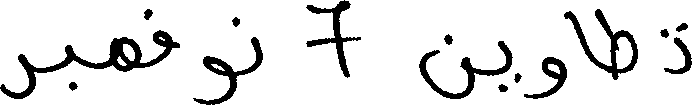7: (304, 0, 359, 79)
ا: (571, 9, 594, 65)
ب: (64, 42, 76, 91)
ت: (672, 21, 690, 75)
ر: (0, 52, 36, 100)
ط: (594, 7, 637, 81)
ف: (150, 8, 172, 67)
م: (109, 35, 140, 73)
ن: (417, 31, 474, 98), (227, 17, 262, 72)
و: (203, 55, 237, 103), (541, 54, 566, 98)
ي: (496, 38, 524, 88)
